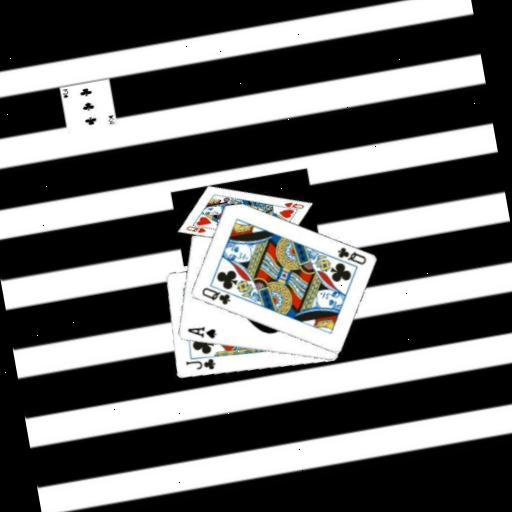AS: (183, 321, 218, 345)
JC: (181, 353, 217, 376)
QC: (333, 240, 369, 270), (197, 280, 232, 310)
